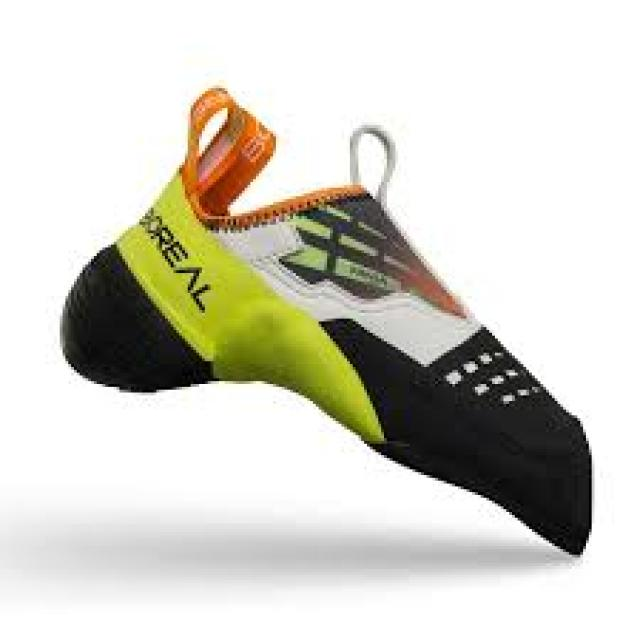climbing-shoes: (63, 86, 598, 561)
